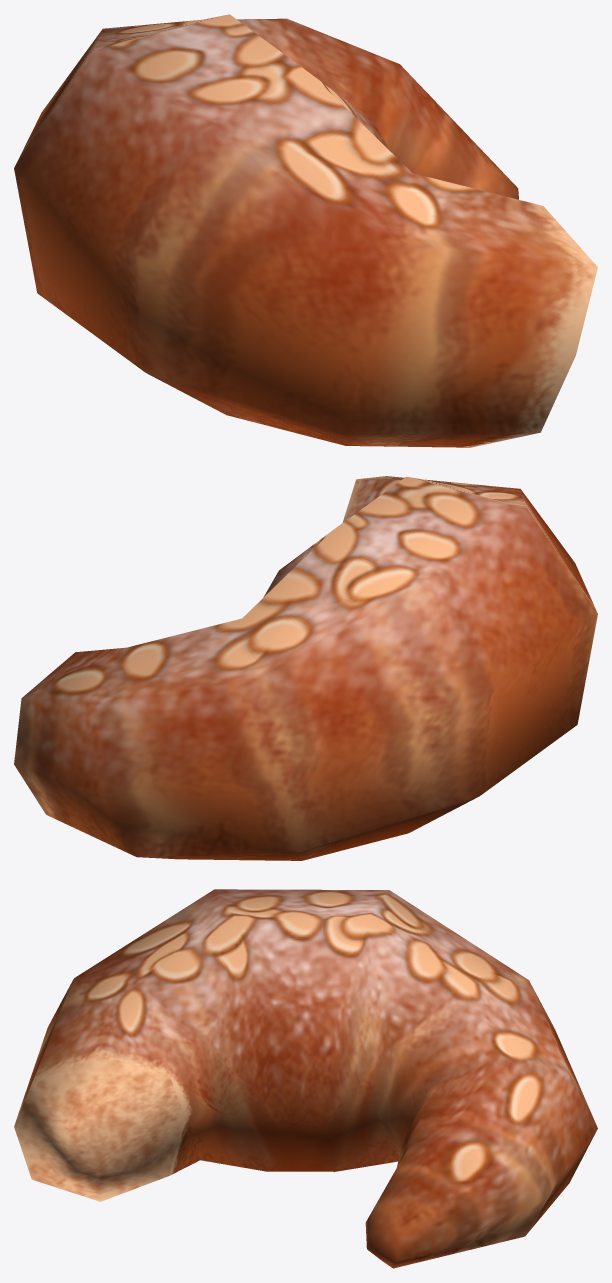
Rendered from Croissant_Bitten_01.fbx.
3 views of the same model, one above another, from view 1: azimuth 30°, elevation 25°; view 2: azimuth 150°, elevation 25°; view 3: azimuth 270°, elevation 25° (orthographic). The views are drawn at different scales.
Parts seen in each view (by area): view 1: Croissant_Bitten_01; view 2: Croissant_Bitten_01; view 3: Croissant_Bitten_01.
Part boxes in pixels (bbox=[...]): Croissant_Bitten_01: bbox=[14, 14, 597, 447]; Croissant_Bitten_01: bbox=[14, 476, 597, 860]; Croissant_Bitten_01: bbox=[14, 889, 597, 1268].
Bounding box in the file's own units: 35.3 × 21.83 × 45.34.
